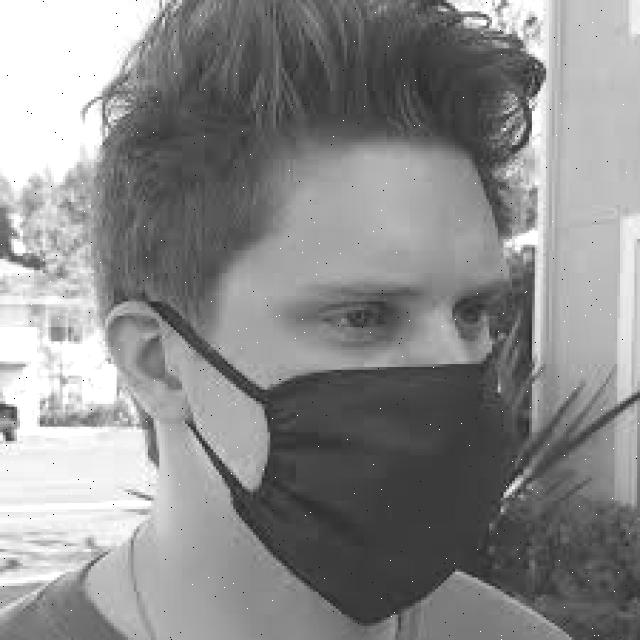fake: (194, 316, 556, 626)
real: (213, 143, 512, 627)
